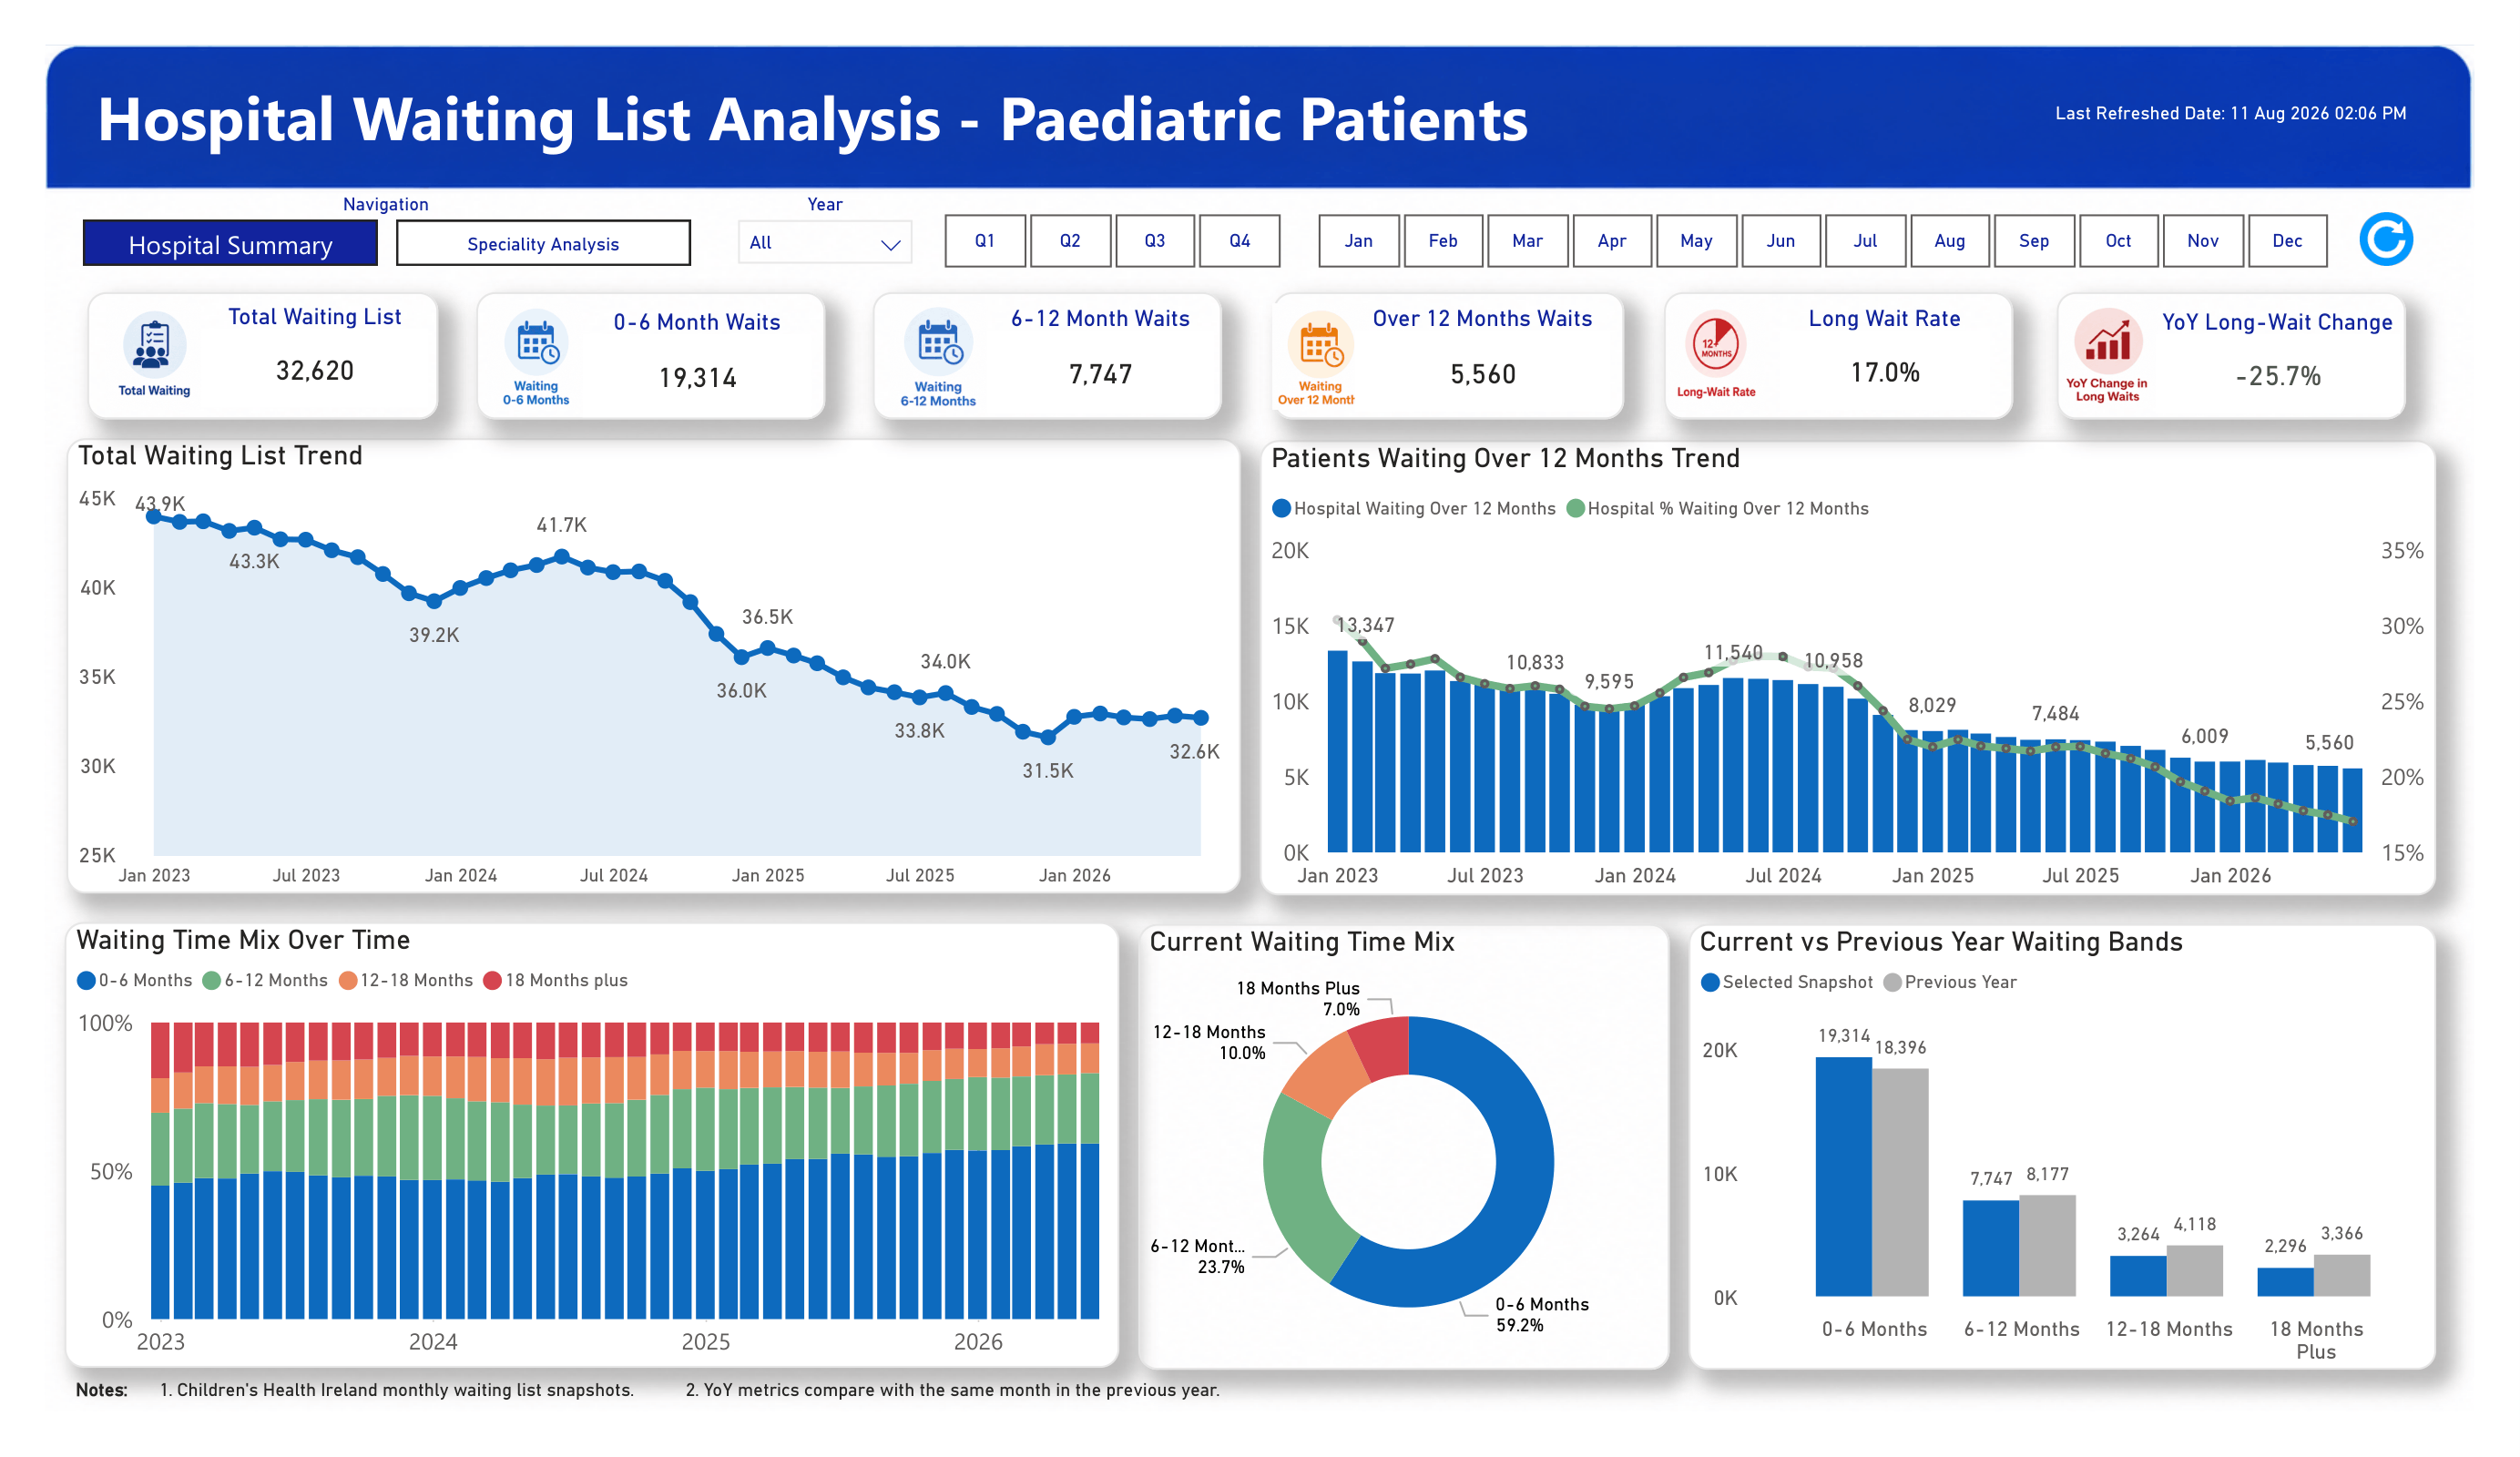

Layout of this report page (visuals, bound fields, positions):
{"tool":"powerbi","page":{"name":"Hospital Summary","canvas":[1280,720],"ordinal":0},"visuals":[{"type":"textbox","box":[22.2,10,789,56.7],"z":0},{"type":"image","box":[1163.6,12.7,96.4,50],"z":1000},{"type":"card","fields":{"Values":["Measure.Last Refreshed Date"]},"box":[962.7,31.8,193.6,30.9],"z":2000},{"type":"image","box":[1213.9,87.8,39,28.4],"z":3000},{"type":"slicer","fields":{"Values":["DimDate.MonthName"]},"box":[650,87,572.5,32.3],"z":4000},{"type":"slicer","fields":{"Values":["DimDate.Quarter"]},"box":[453.4,87,216.7,32.3],"z":5000},{"type":"slicer","fields":{"Values":["DimDate.Year"]},"box":[360,87,102,32],"z":6000},{"type":"textbox","box":[386.4,68,50,30],"z":7000},{"type":"areaChart","title":"Total Waiting List Trend","fields":{"Category":["DimDate.MonthStart"],"Y":["Measure.Hospital Total Waiting"]},"box":[11,207,619,240],"z":8000},{"type":"lineClusteredColumnComboChart","title":"Patients Waiting Over 12 Months Trend","fields":{"Category":["DimDate.MonthStart"],"Y":["Measure.Hospital Waiting Over 12 Months"],"Y2":["Measure.Hospital % Waiting Over 12 Months"]},"box":[640,207.5,620,240],"z":9000},{"type":"hundredPercentStackedColumnChart","title":"Waiting Time Mix Over Time","fields":{"Category":["DimDate.MonthStart"],"Y":["Measure.Hospital Waiting 0-6 Months","Measure.Hospital Waiting 6-12 Months","Measure.Hospital Waiting 12-18 Months","Measure.Hospital Waiting 18 Months Plus"]},"box":[10,462.2,555.6,234.4],"z":10000},{"type":"donutChart","title":"Current Waiting Time Mix","fields":{"Category":["Hospital Waiting Band.Waiting Band"],"Y":["Measure.Hospital Selected Waiting by Band"]},"box":[576,463,280,235],"z":11000},{"type":"textbox","box":[11,698,630,20],"z":12000},{"type":"clusteredColumnChart","title":"Current vs Previous Year Waiting Bands","fields":{"Category":["Hospital Waiting Band.Waiting Band"],"Y":["Measure.Hospital Selected Waiting by Band","Measure.Hospital Previous Year Waiting by Band"]},"box":[866,463,394,235],"z":13000},{"type":"pageNavigator","box":[20,92,320,24],"z":14000},{"type":"shape","box":[1060,130,184,67.3],"z":15000},{"type":"image","box":[1062.7,135.5,50,55.5],"z":16000},{"type":"cardVisual","title":"YoY Long-Wait Change","fields":{"Data":["Measure.Hospital YoY % Change Waiting Over 12 Months"]},"box":[1112.2,138.9,128.9,55.6],"z":17000},{"type":"shape","box":[22,130,184.7,67.3],"z":18000},{"type":"image","box":[32,136,50,56],"z":19000},{"type":"cardVisual","title":"Total Waiting List","fields":{"Data":["Measure.Hospital Selected Total Waiting"]},"box":[82,136,120,55],"z":20000},{"type":"shape","box":[227.3,130,184,67.3],"z":21000},{"type":"image","box":[233.5,136,50,56],"z":22000},{"type":"cardVisual","title":"0-6 Month Waits","fields":{"Data":["Measure.Hospital Selected Waiting 0-6 Months"]},"box":[283.3,138.9,121.1,56.7],"z":23000},{"type":"shape","box":[436,130,184,67.3],"z":24000},{"type":"image","box":[445.3,136,50.6,56.5],"z":25000},{"type":"cardVisual","title":"6-12 Month Waits","fields":{"Data":["Measure.Hospital Selected Waiting 6-12 Months"]},"box":[495.9,137.1,120,57.1],"z":26000},{"type":"shape","box":[647.3,130,184.7,66.7],"z":27000},{"type":"image","box":[647.1,136,50,56],"z":28000},{"type":"cardVisual","title":"Over 12 Months Waits","fields":{"Data":["Measure.Hospital Selected Waiting Over 12 Months"]},"box":[690,137,135,56],"z":29000},{"type":"shape","box":[853.3,130,184,67.3],"z":30000},{"type":"image","box":[856,136,50,56],"z":31000},{"type":"cardVisual","title":"Long Wait Rate ","fields":{"Data":["Measure.Hospital Selected % Waiting Over 12 Months"]},"box":[913.6,137.3,111.8,54.5],"z":32000},{"type":"textbox","box":[127.7,68.3,103.7,27.5],"z":33000}]}

Visuals, with their boxes on the page's 1280x720 design canvas (x1, y1, x2, y2). These are canvas units, not pixel positions in the 2520x1457 screenshot, which may show the page scaled, cropped or inside an application window:
textbox: Rect(22, 10, 811, 67)
image: Rect(1164, 13, 1260, 63)
card - Measure.Last Refreshed Date: Rect(963, 32, 1156, 63)
image: Rect(1214, 88, 1253, 116)
slicer - DimDate.MonthName: Rect(650, 87, 1222, 119)
slicer - DimDate.Quarter: Rect(453, 87, 670, 119)
slicer - DimDate.Year: Rect(360, 87, 462, 119)
textbox: Rect(386, 68, 436, 98)
"Total Waiting List Trend" areaChart: Rect(11, 207, 630, 447)
"Patients Waiting Over 12 Months Trend" lineClusteredColumnComboChart: Rect(640, 208, 1260, 448)
"Waiting Time Mix Over Time" hundredPercentStackedColumnChart: Rect(10, 462, 566, 697)
"Current Waiting Time Mix" donutChart: Rect(576, 463, 856, 698)
textbox: Rect(11, 698, 641, 718)
"Current vs Previous Year Waiting Bands" clusteredColumnChart: Rect(866, 463, 1260, 698)
pageNavigator: Rect(20, 92, 340, 116)
shape: Rect(1060, 130, 1244, 197)
image: Rect(1063, 136, 1113, 191)
"YoY Long-Wait Change" cardVisual: Rect(1112, 139, 1241, 194)
shape: Rect(22, 130, 207, 197)
image: Rect(32, 136, 82, 192)
"Total Waiting List" cardVisual: Rect(82, 136, 202, 191)
shape: Rect(227, 130, 411, 197)
image: Rect(234, 136, 284, 192)
"0-6 Month Waits" cardVisual: Rect(283, 139, 404, 196)
shape: Rect(436, 130, 620, 197)
image: Rect(445, 136, 496, 192)
"6-12 Month Waits" cardVisual: Rect(496, 137, 616, 194)
shape: Rect(647, 130, 832, 197)
image: Rect(647, 136, 697, 192)
"Over 12 Months Waits" cardVisual: Rect(690, 137, 825, 193)
shape: Rect(853, 130, 1037, 197)
image: Rect(856, 136, 906, 192)
"Long Wait Rate " cardVisual: Rect(914, 137, 1025, 192)
textbox: Rect(128, 68, 231, 96)
